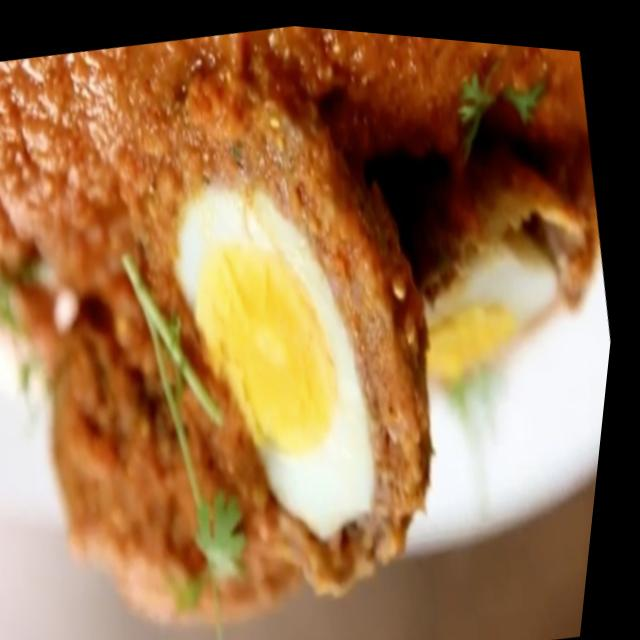EGG: (0, 25, 610, 639)
